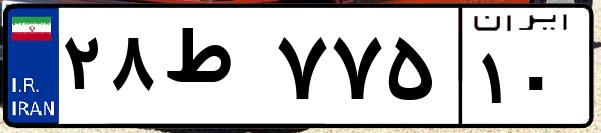0: (525, 38, 570, 115)
1: (475, 38, 525, 113)
2: (57, 26, 110, 100)
5: (385, 28, 445, 110)
7: (270, 28, 330, 110), (330, 28, 385, 110)
8: (110, 28, 158, 98)
ط: (158, 20, 270, 120)
